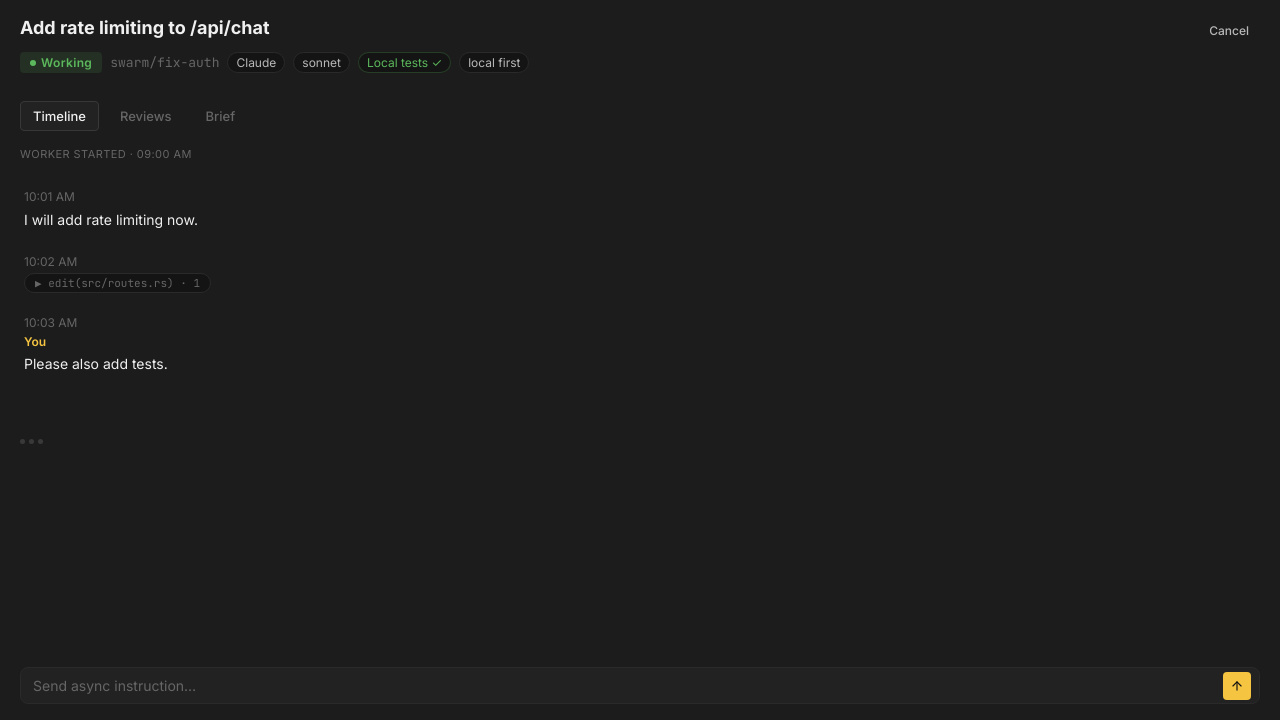
Test case: WorkerDetailV2 › switches to Brief tab and shows 'No brief recorded' when brief is null
Expected: the element with test id "status-badge" is shown, [20,52,102,73]
Click the tab "Brief".
click(220, 116)  # box [192,101,248,131]
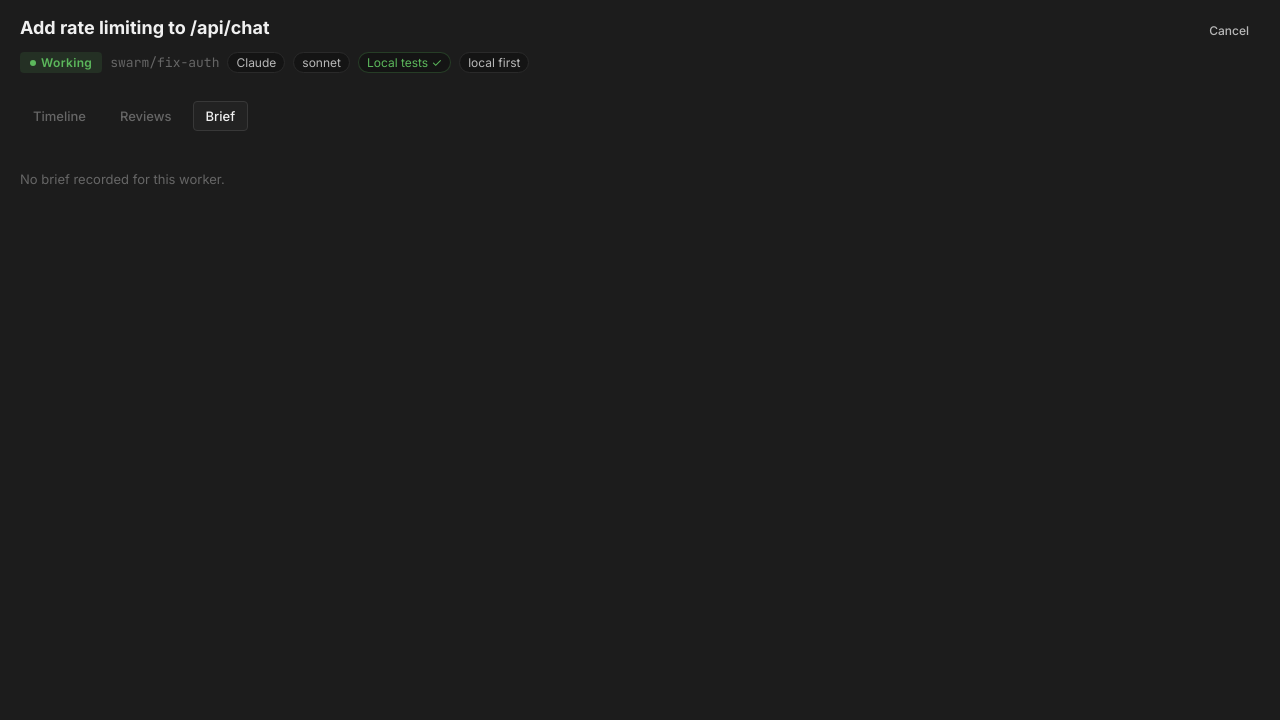
Result: the text "No brief recorded for this worker." is shown at [20,171,225,187]
